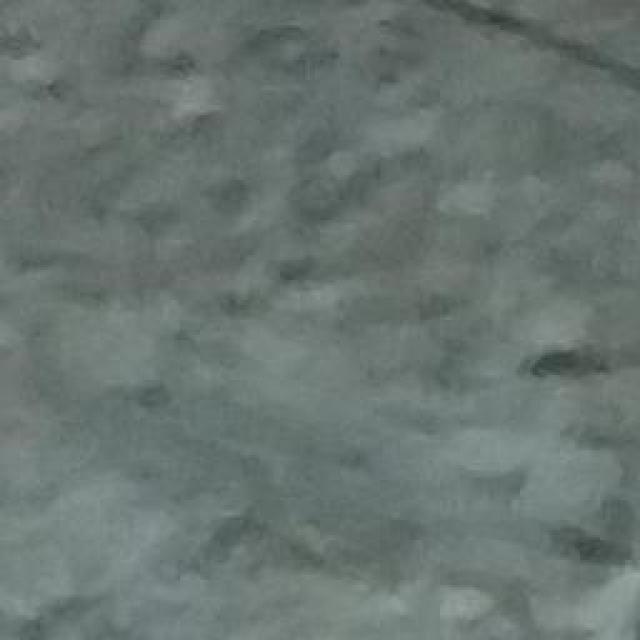Diagonal: (407, 0, 640, 102)
Rippled: (5, 0, 412, 633)
